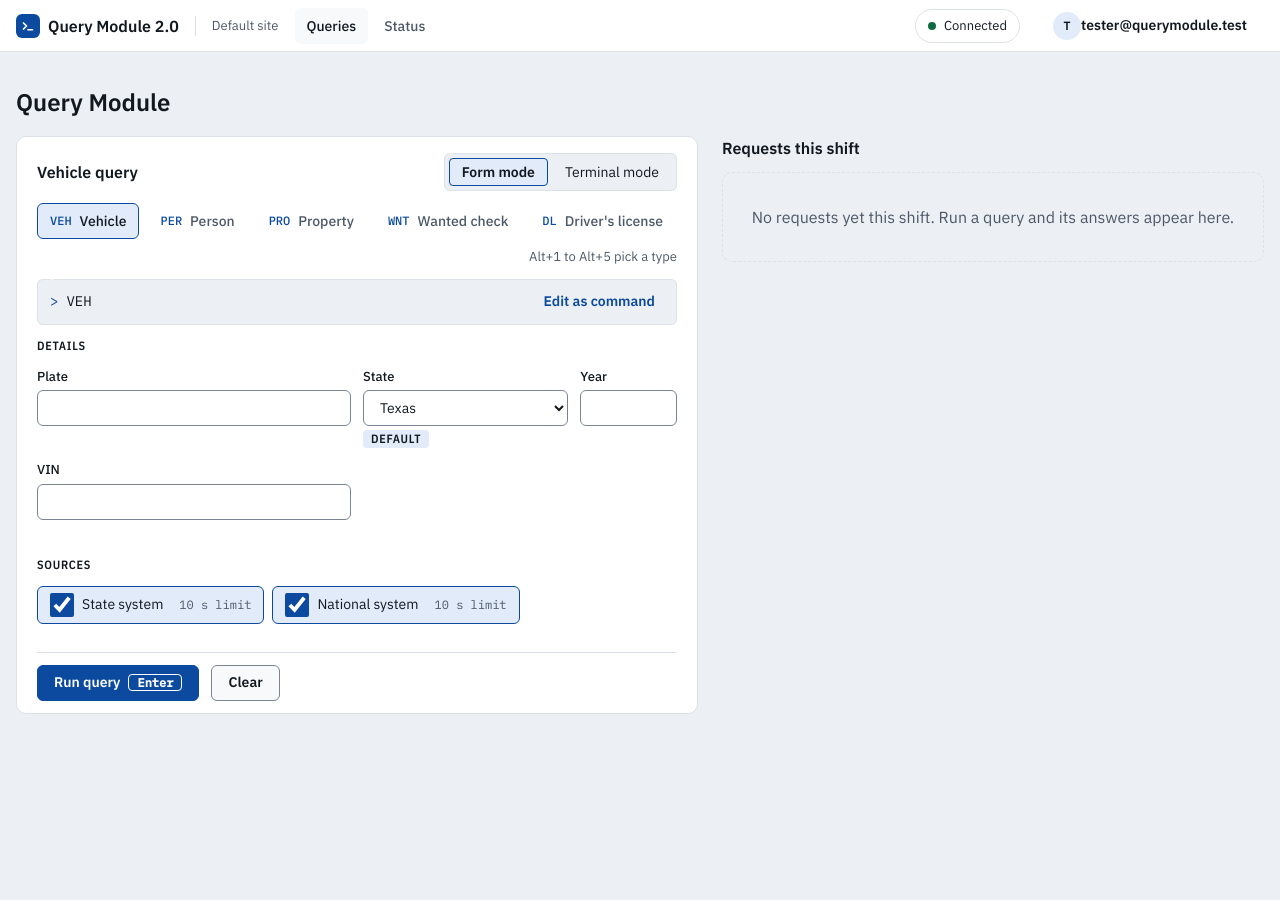
Test: BR-001 config-driven query panel (spec 6.2) › G5 a field a rule reveals carries a Shown tag (visual system, Controls and states) › the tag sits in the label's flow (never over it), aria-hidden so the name stays the label
The width and height of the screenshot is (1280, 900).
Expected: the field labelled "Plate" is shown, 37,390 -> 351,426
Select "Oklahoma" in the dropdown labelled "State" at (466, 408), box 363,390 -> 568,426
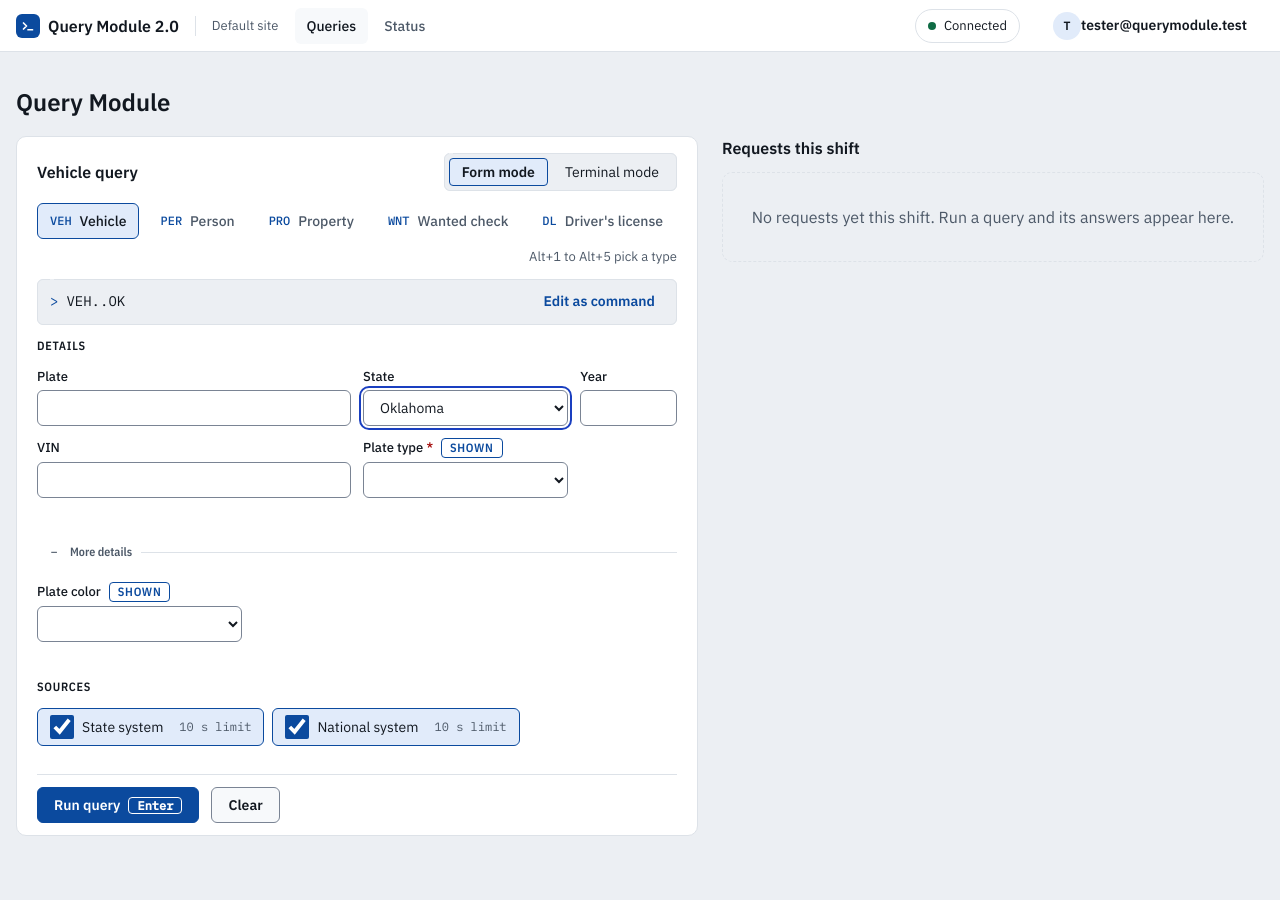
Expected: the text "Shown" in the row of "VIN" is shown, 441,438 -> 503,458
Expected: the label "Plate type * Shown" is shown, 363,438 -> 503,458
